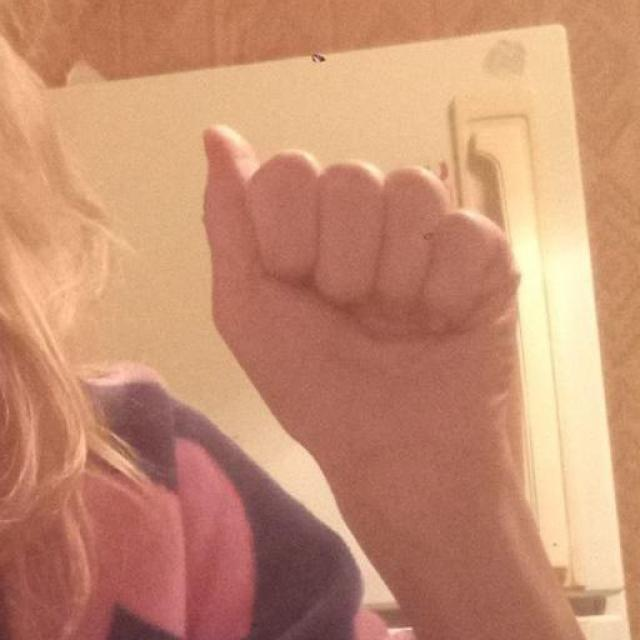hand: (200, 121, 599, 498)
